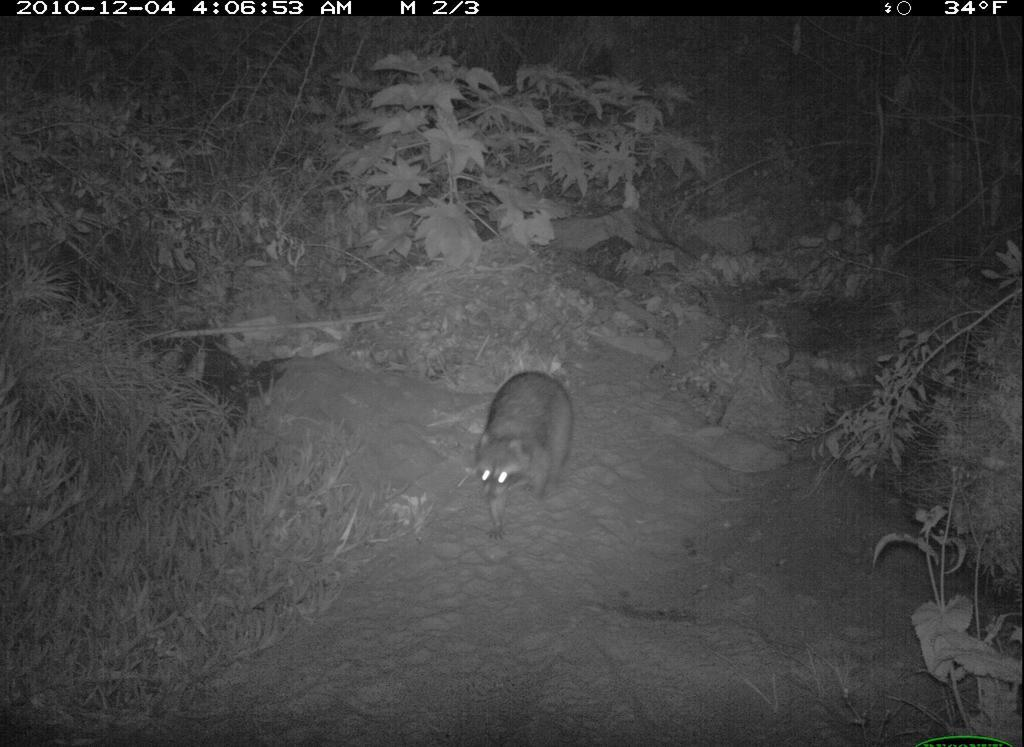raccoon: (468, 367, 579, 545)
